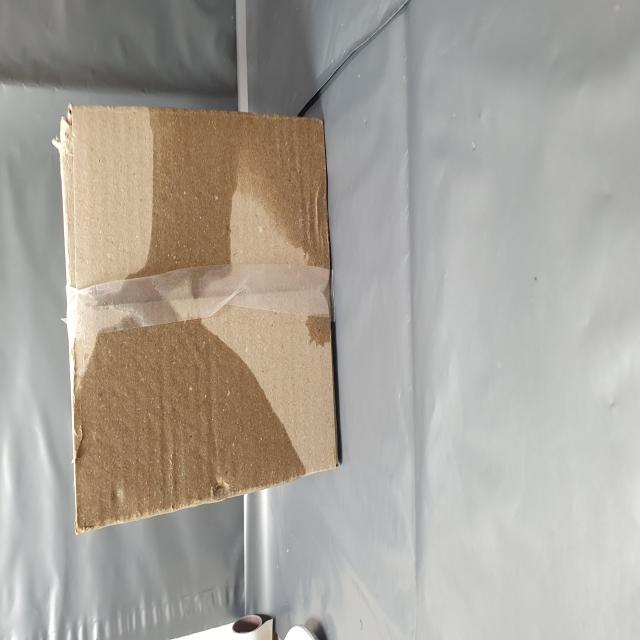wet: (58, 120, 309, 612)
